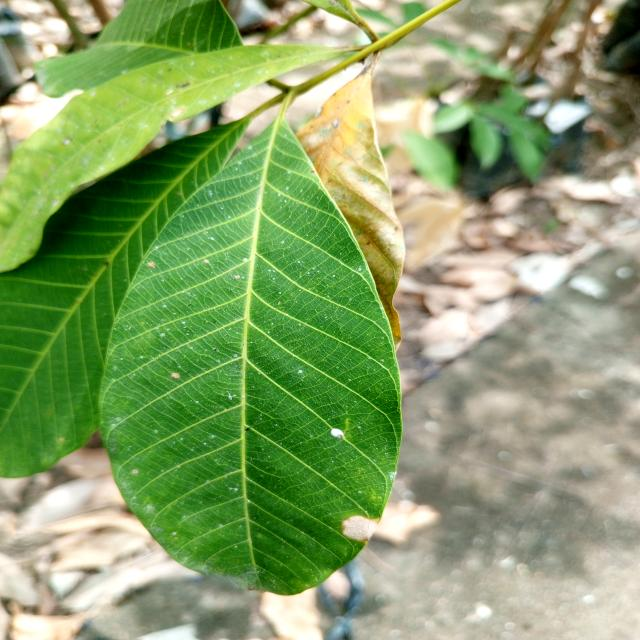Leaf-Blight: (342, 515, 379, 542)
